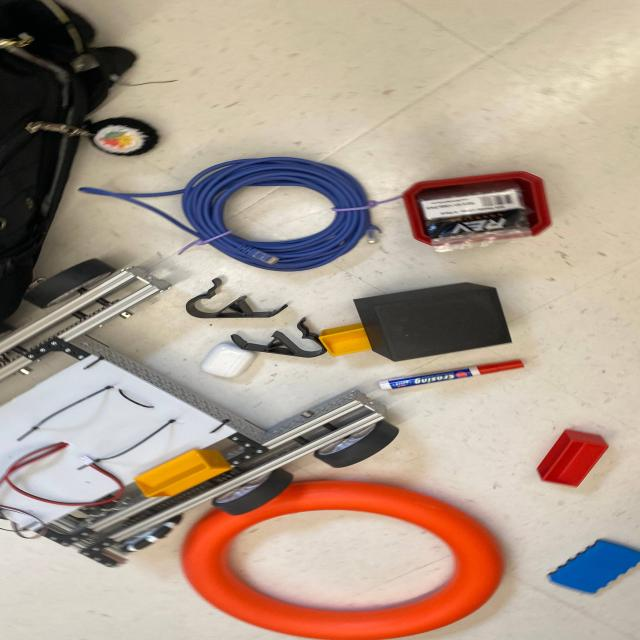red-specimen: (537, 430, 608, 487)
yellow-specimen: (134, 449, 231, 497), (319, 323, 371, 356)
